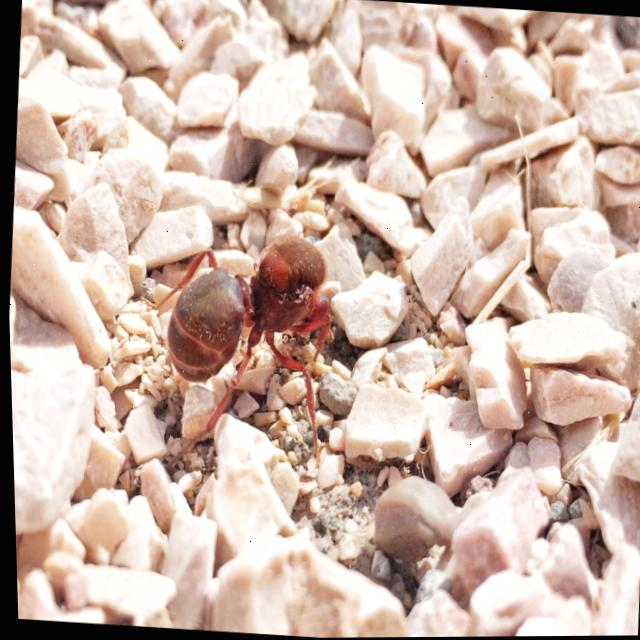Alive-Female-Dealate: (124, 224, 343, 483)
